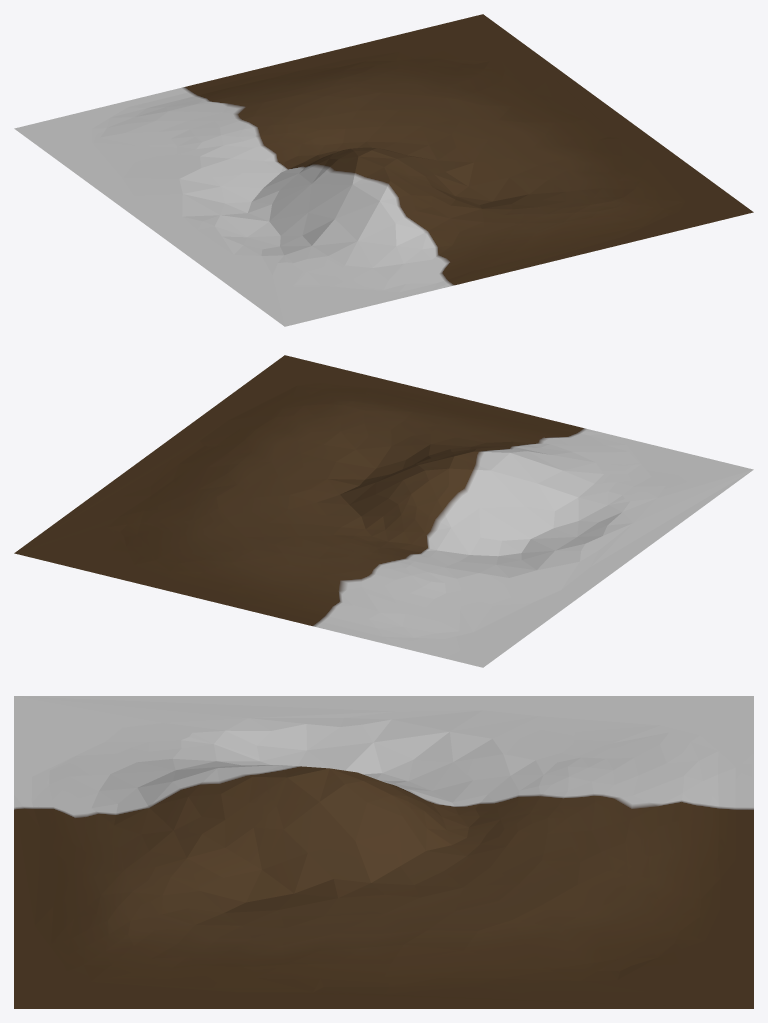
The model's file is Terrain_10.fbx.
3 renders of one model, top to bottom at view 1: azimuth 30°, elevation 25°; view 2: azimuth 150°, elevation 25°; view 3: azimuth 270°, elevation 25°, orthographic. The views are drawn at different scales.
Parts seen in each view (by area): view 1: Terrain_10; view 2: Terrain_10; view 3: Terrain_10.
Boxes of the visible parts, box(x1,y1,x2,y2) form: Terrain_10: box(14, 14, 753, 326); Terrain_10: box(14, 355, 753, 667); Terrain_10: box(14, 696, 753, 1008).
Bounding box in the file's own units: 128 × 12.55 × 128.
